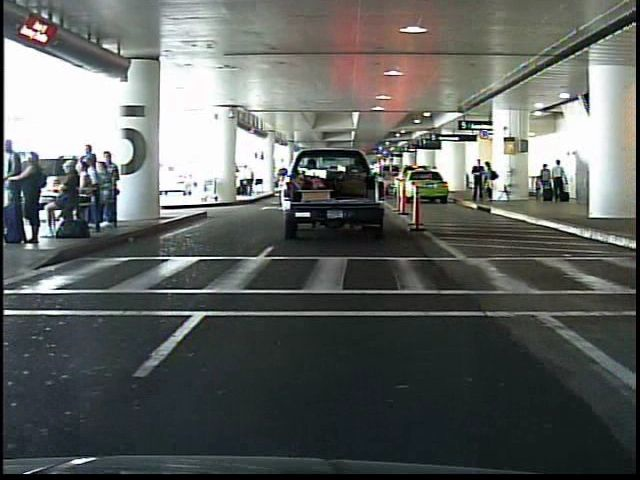person: (470, 156, 487, 206), (483, 162, 499, 202)
